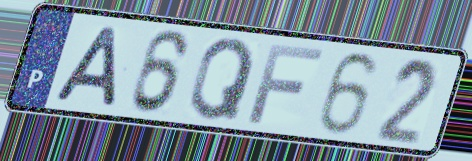2: (371, 55, 442, 147)
6: (315, 48, 383, 138), (127, 28, 191, 118)
A: (48, 23, 121, 109)
F: (244, 41, 328, 126)
Q: (187, 35, 259, 123)
